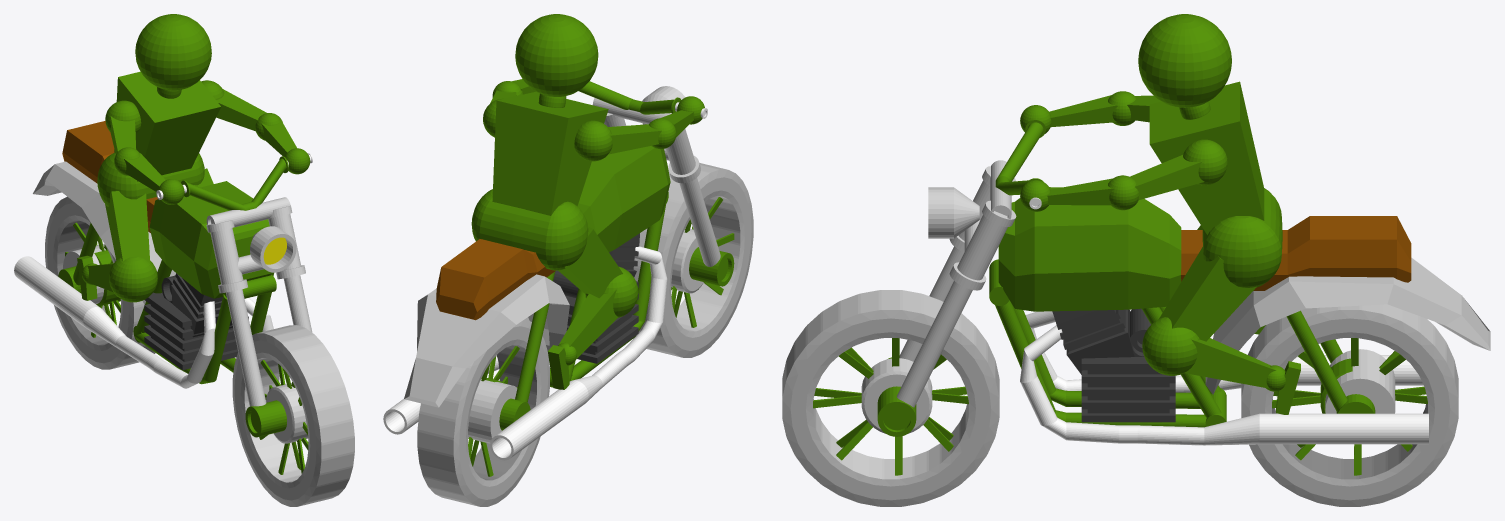
File: moto.gltf
3 views of the same model, side by side, from view 1: azimuth 30°, elevation 25°; view 2: azimuth 150°, elevation 25°; view 3: azimuth 270°, elevation 25° (orthographic). The views are drawn at different scales.
Visible parts, largest first — view 1: Cylinder; view 2: Cylinder; view 3: Cylinder.
Boxes of the visible parts, left/top/right/bottom form: Cylinder: left=14, top=14, right=354, bottom=506; Cylinder: left=383, top=14, right=753, bottom=506; Cylinder: left=782, top=14, right=1490, bottom=506.
Size of the model in its own units: 0.0474 by 0.1068 by 0.1432.
